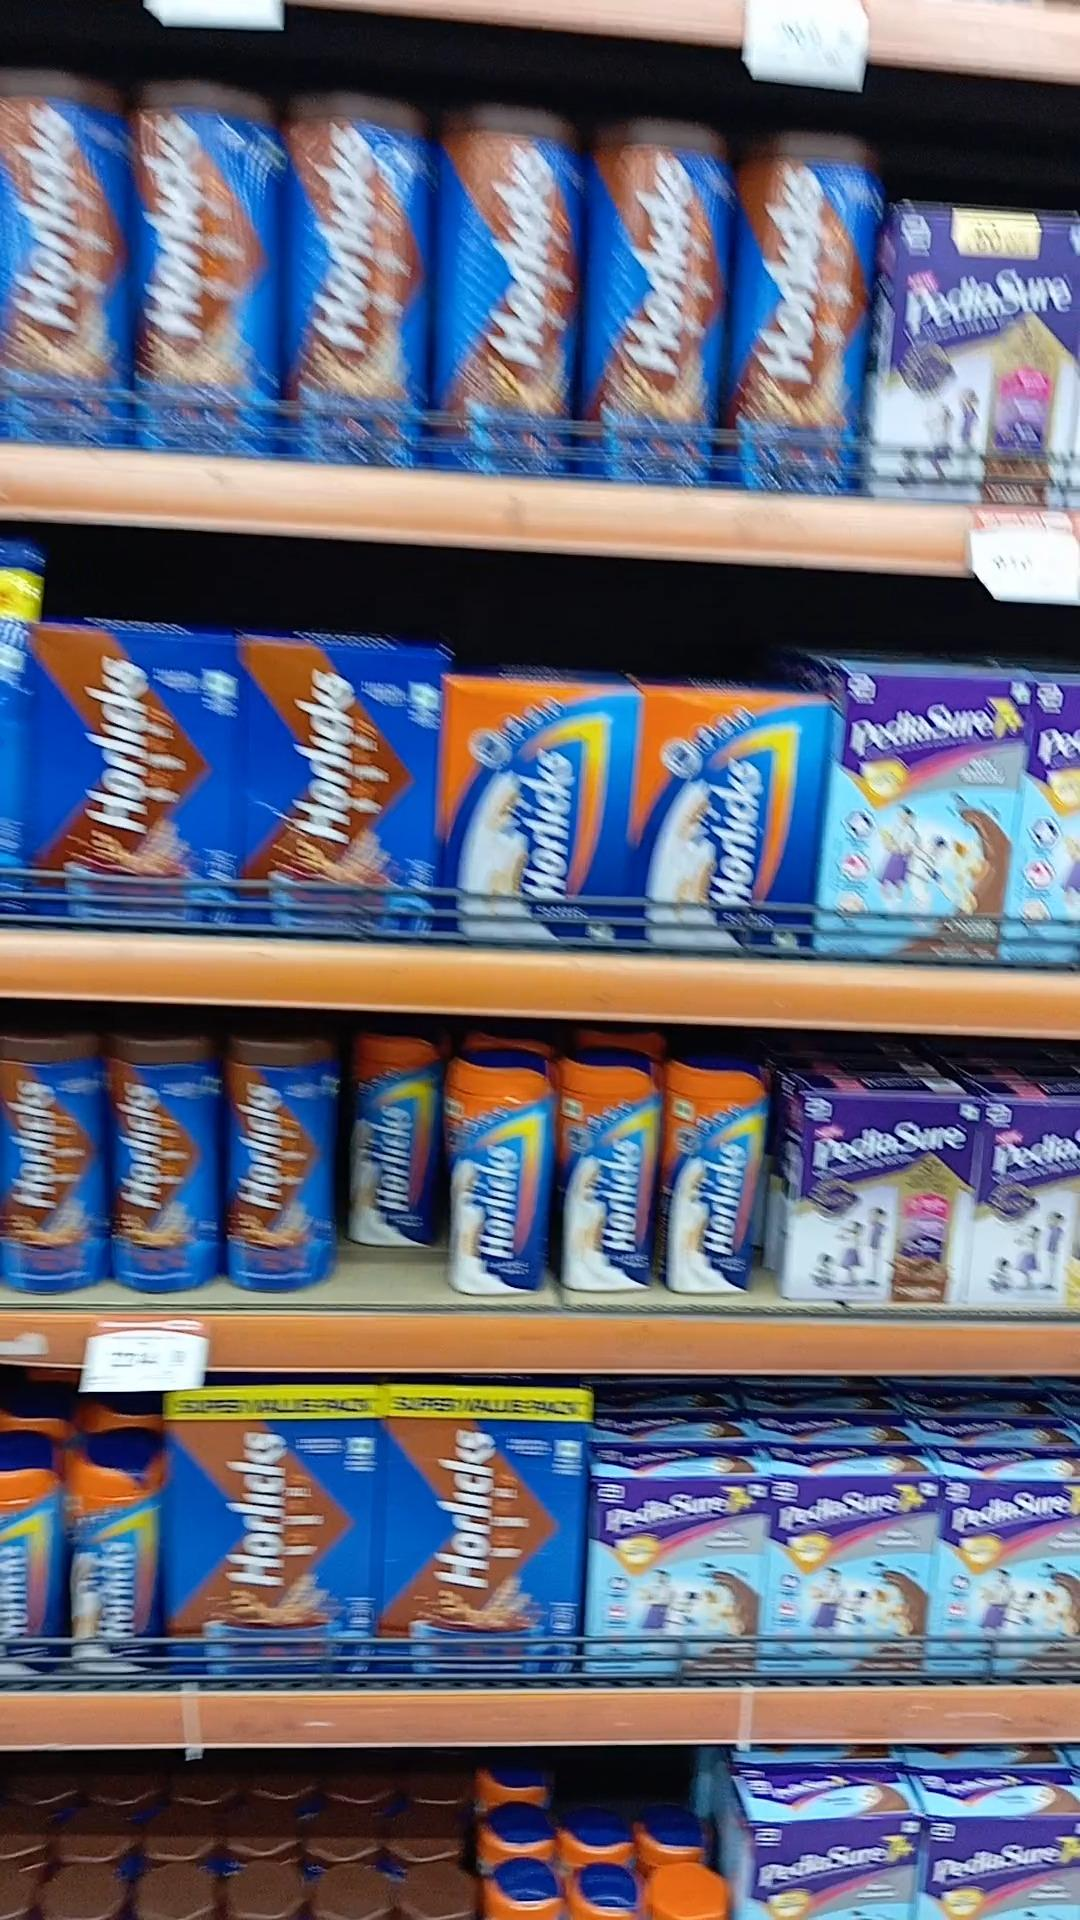HORLICK_CHOCOLATE_1_KG_JAR: (132, 78, 277, 450), (583, 111, 727, 475), (286, 94, 429, 460), (436, 100, 576, 471), (0, 63, 127, 439), (737, 127, 860, 492)
HORLICK_CHOCOLATE_1_KG_PACK: (165, 1382, 377, 1680), (389, 1383, 579, 1681)
HORLICK_CHOCOLATE_500_G_JAR: (223, 1034, 338, 1291), (105, 1038, 216, 1291), (1, 1036, 98, 1292)
HORLICK_CHOCOLATE_500_G_PACK: (28, 629, 233, 924), (245, 642, 442, 928)
HORLICK_CLASSIC_MALT_500_G_JAR: (443, 1060, 543, 1298), (563, 1056, 654, 1292), (662, 1063, 754, 1295), (67, 1440, 160, 1672), (349, 1036, 434, 1247)
HORLICK_CLASSIC_MALT_500_G_PACK: (451, 678, 637, 943), (644, 692, 811, 947)
PEDIASURE_7_PLUS_CHOCOLATE_400_G_PACK: (829, 674, 1009, 960), (591, 1478, 757, 1676), (769, 1477, 932, 1671)
PEDIASURE_CHOCOLATE_500_G_PACK: (884, 206, 1080, 505), (794, 1096, 959, 1300)
